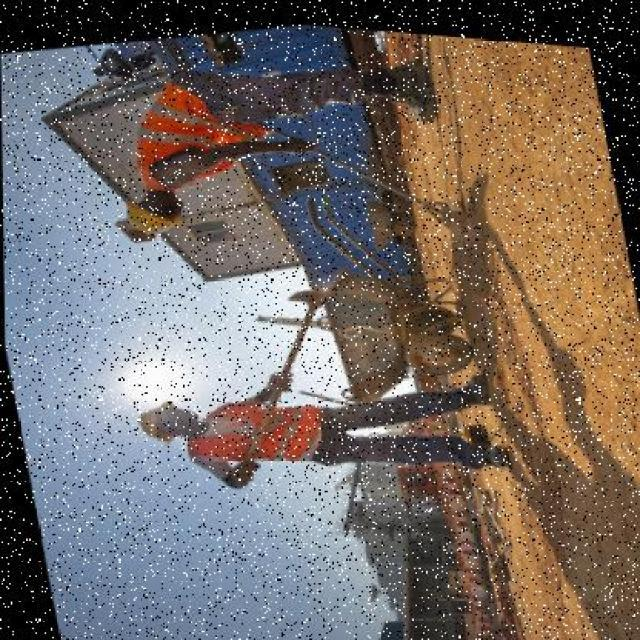helmet: (120, 199, 176, 235), (137, 396, 175, 443)
vest: (200, 392, 328, 476), (128, 77, 222, 167)
